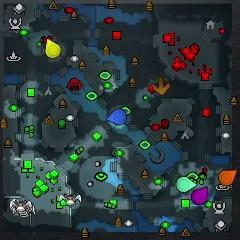p1: (106, 109, 127, 124)
p2: (177, 176, 196, 192)
p3: (191, 187, 208, 204)
p4: (46, 39, 61, 59)
p5: (219, 170, 237, 186)
x5: (152, 77, 169, 94)
